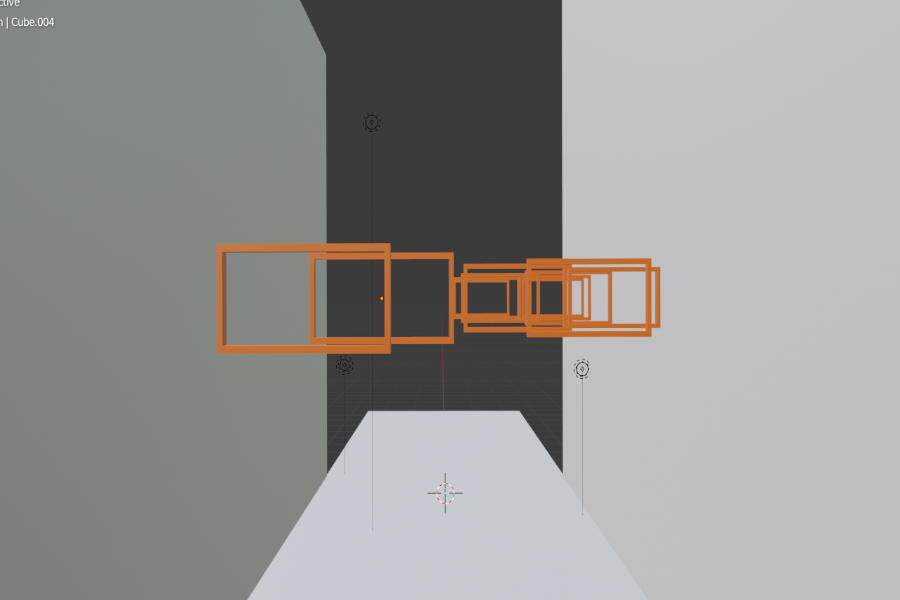GATE: (206, 237, 396, 359), (308, 254, 452, 342), (525, 259, 652, 332)
